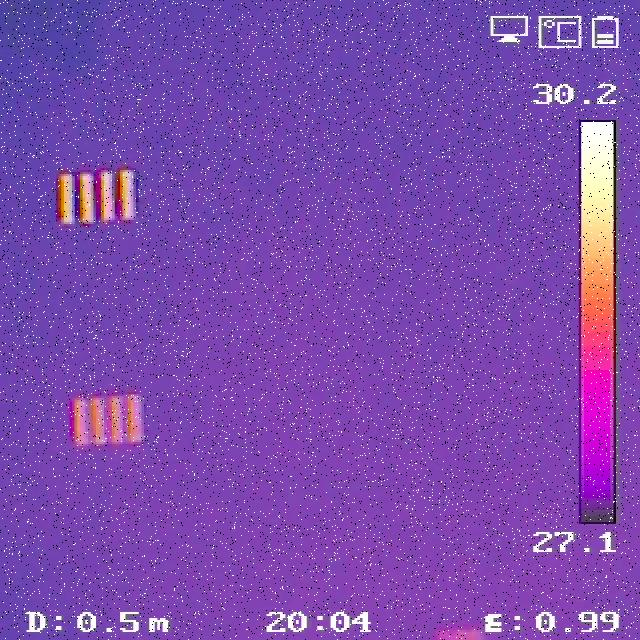Distinguishable 4-bar target: (54, 171, 138, 224), (69, 394, 143, 446)
